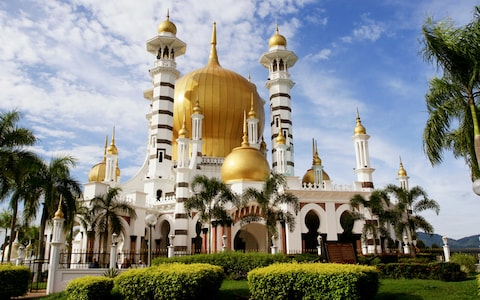Mosque: (72, 11, 411, 251)
